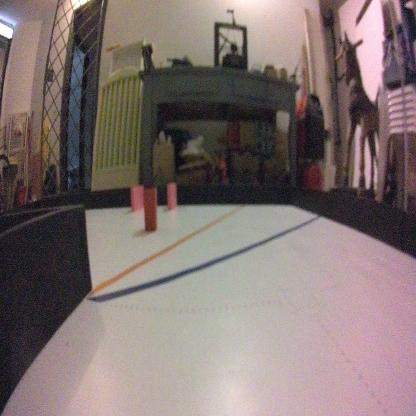magenta: (129, 180, 144, 214), (164, 178, 177, 210)
red: (144, 185, 156, 234)
